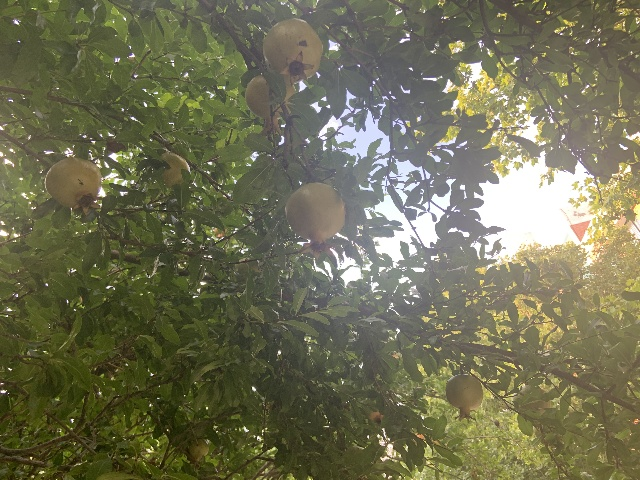mid-growth: (285, 182, 345, 260), (262, 18, 322, 86), (44, 157, 103, 216), (244, 74, 296, 136), (445, 373, 483, 422), (152, 152, 190, 188), (189, 438, 208, 463), (214, 227, 226, 238)
